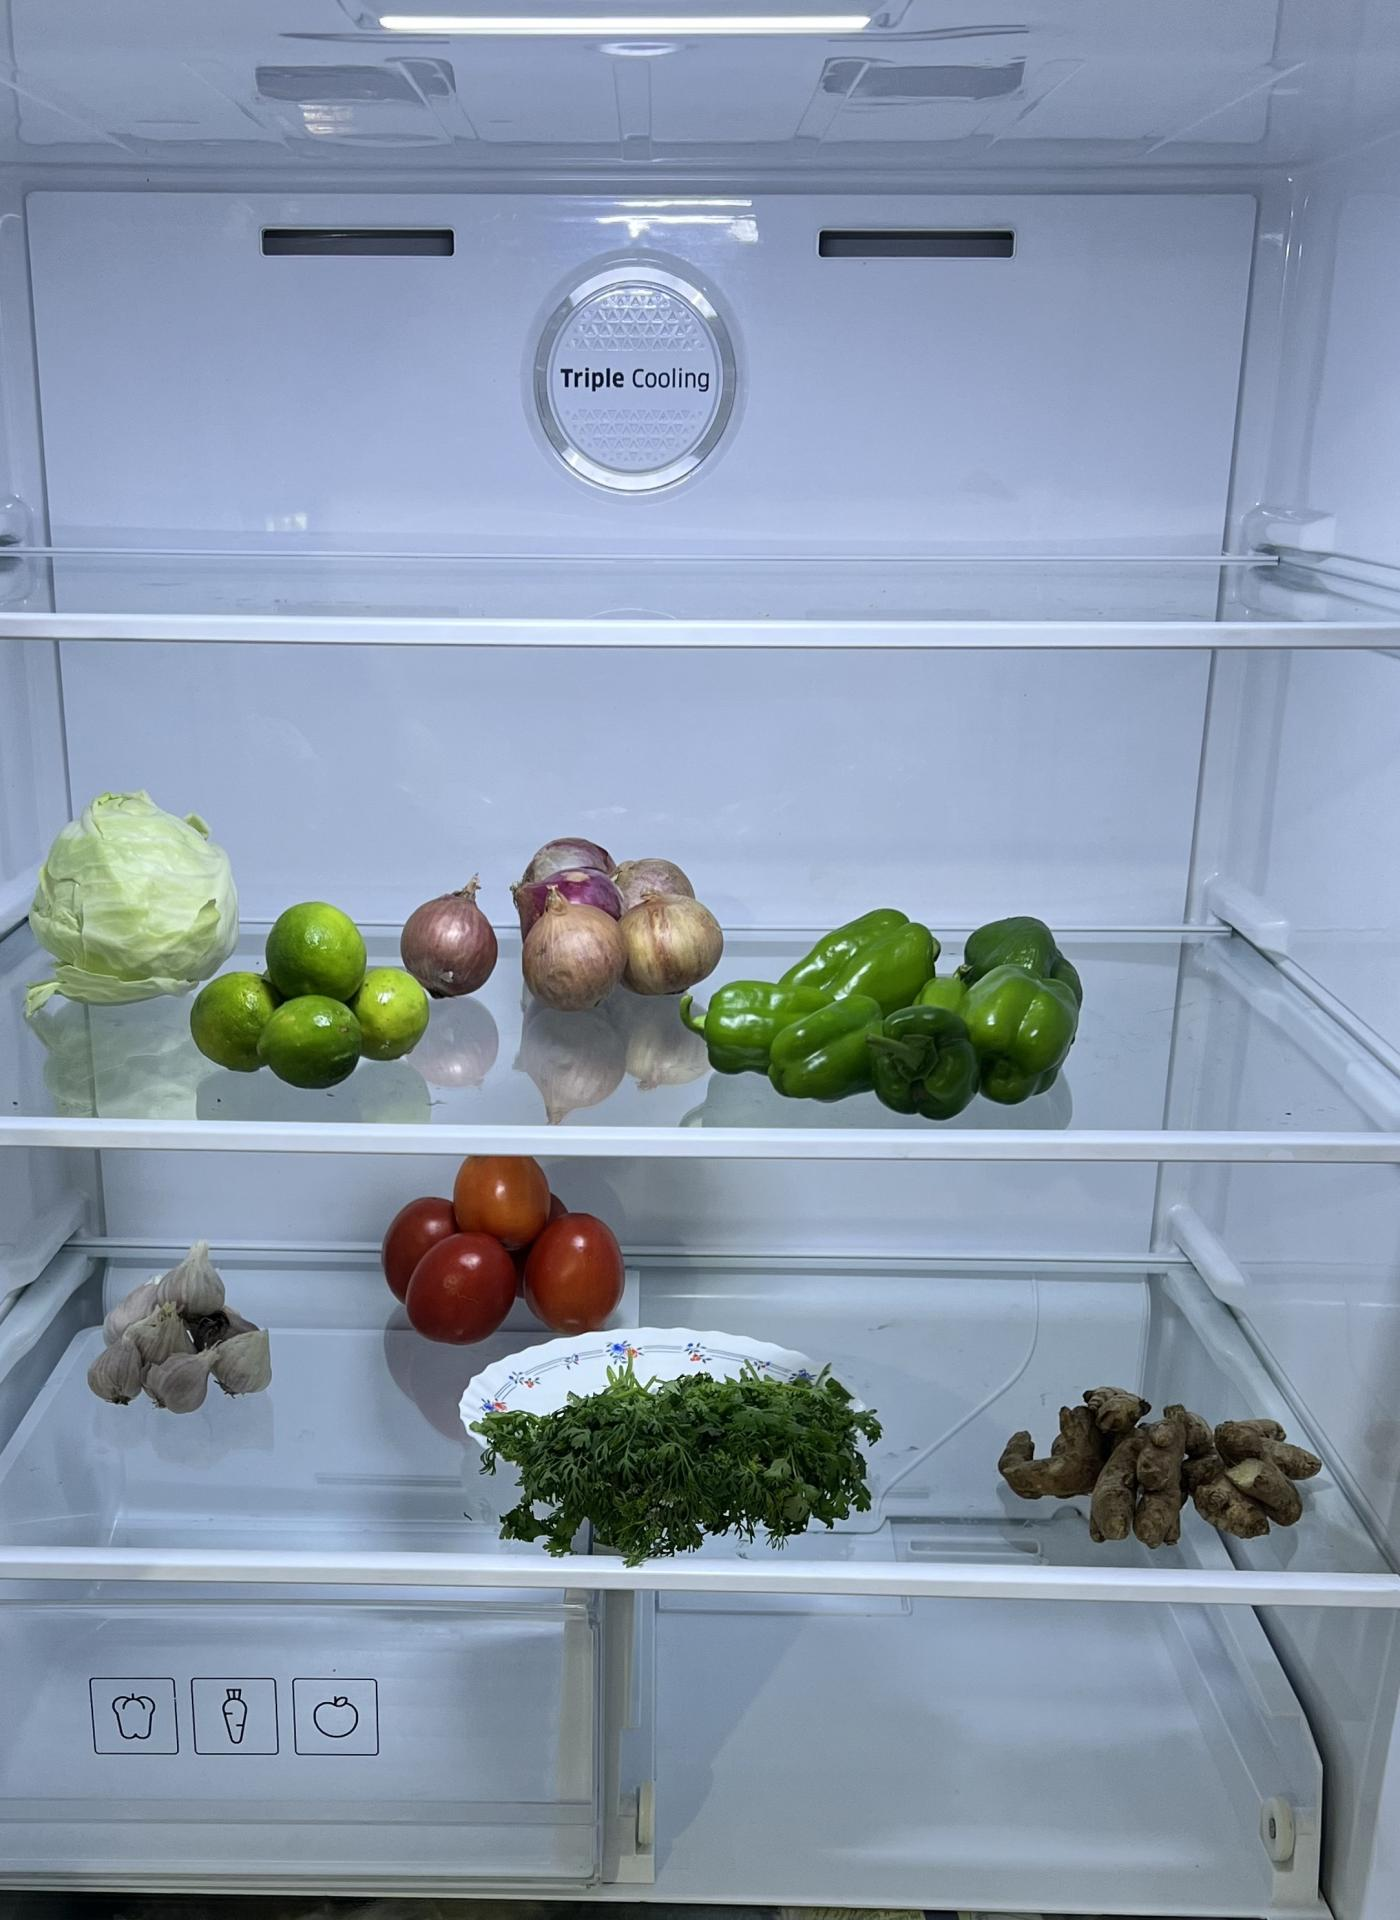cabbage: (24, 795, 246, 1000)
capsicum: (669, 914, 1103, 1125)
coriander: (456, 1362, 893, 1550)
garlic: (75, 1234, 274, 1410)
ginger: (1006, 1383, 1330, 1546)
lemon: (191, 897, 438, 1094)
onion: (392, 812, 708, 1003)
tomato: (373, 1143, 635, 1343)
